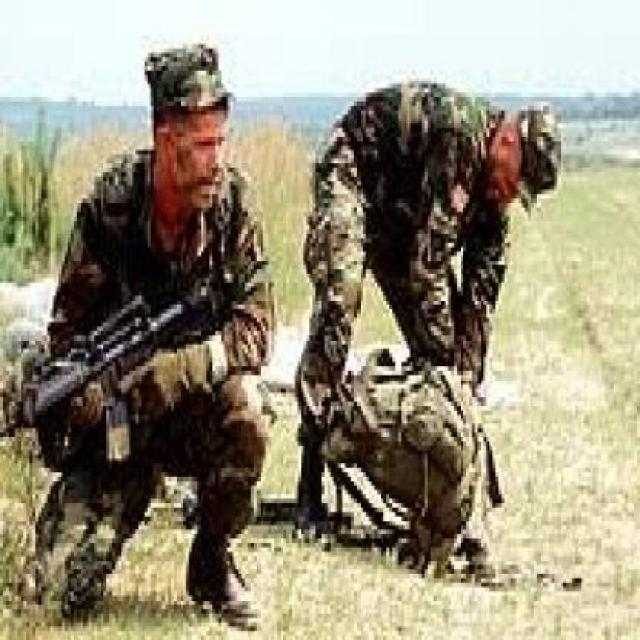weapon: (18, 285, 229, 472)
